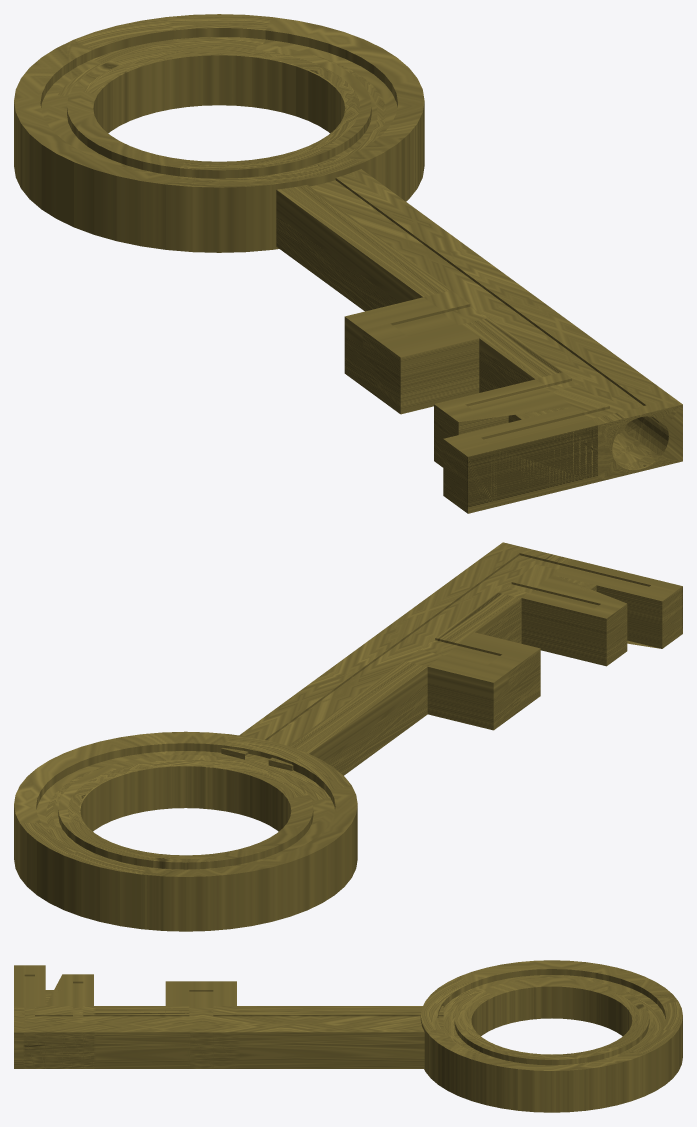
File: Key.fbx
3 views of the same model, one above another, from view 1: azimuth 30°, elevation 25°; view 2: azimuth 150°, elevation 25°; view 3: azimuth 270°, elevation 25° (orthographic). The views are drawn at different scales.
Visible parts, largest first — view 1: Torus; view 2: Torus; view 3: Torus.
Boxes of the visible parts, x1,y1,x2,y2 form: Torus: (14, 14, 682, 513); Torus: (14, 542, 682, 931); Torus: (14, 960, 682, 1112).
Size of the model in its own units: 250 by 43.84 by 638.
Materials: 1 (1 with a texture image).
